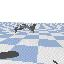drone: (12, 24, 36, 33)
